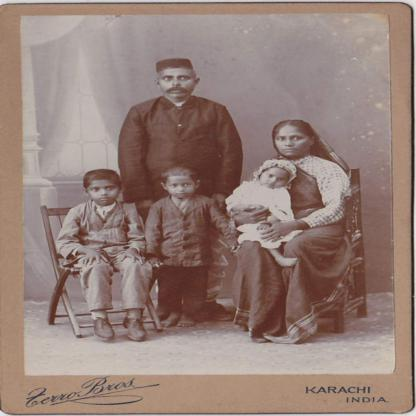face: (276, 131, 311, 157), (160, 73, 196, 97), (89, 183, 120, 206), (168, 179, 197, 199), (261, 171, 290, 188)
